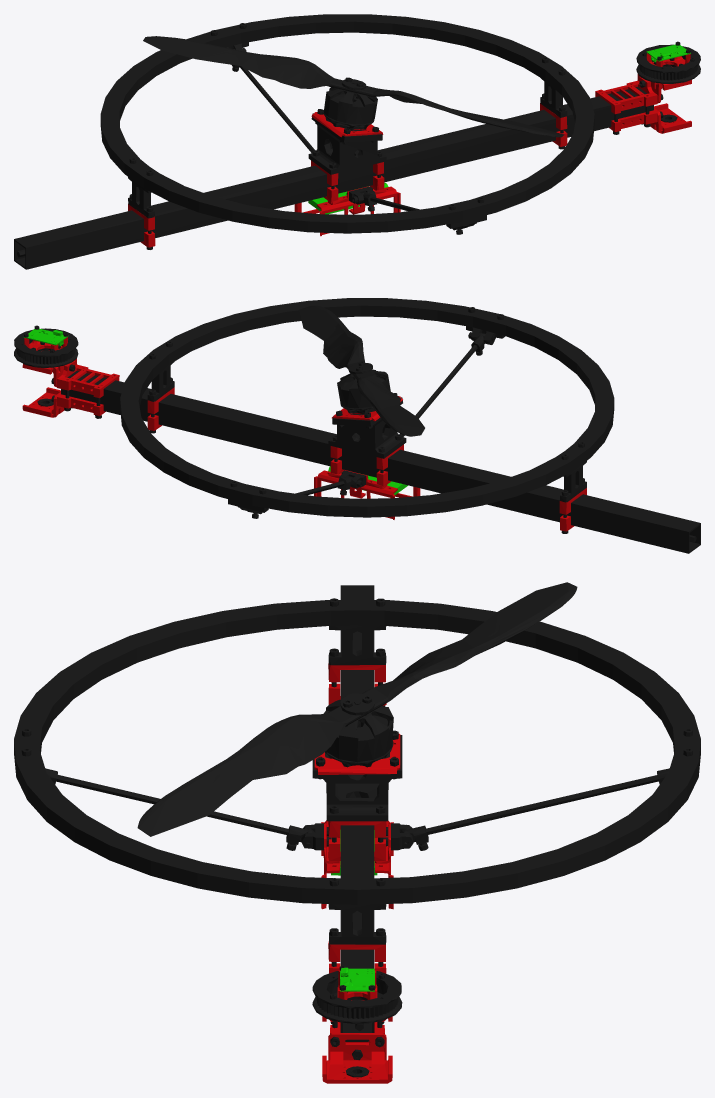
Rendered from tilt_10deg_fix_joint_link3.dae.
The picture shows the model from 3 angles, top to bottom: view 1: azimuth 30°, elevation 25°; view 2: azimuth 150°, elevation 25°; view 3: azimuth 270°, elevation 25°; orthographic projection. The views are drawn at different scales.
Visible parts, largest first — view 1: tilt_10deg_link3_fix_joint_black_part, tilt_10deg_link3_fix_joint_red_part, link3_fix_joint_green; view 2: tilt_10deg_link3_fix_joint_black_part, tilt_10deg_link3_fix_joint_red_part, link3_fix_joint_green; view 3: tilt_10deg_link3_fix_joint_black_part, tilt_10deg_link3_fix_joint_red_part, link3_fix_joint_green.
Part boxes in pixels (box(x1,y1,x2,y2)): tilt_10deg_link3_fix_joint_black_part: box(14, 14, 700, 269); tilt_10deg_link3_fix_joint_red_part: box(128, 53, 691, 247); link3_fix_joint_green: box(308, 44, 690, 214); tilt_10deg_link3_fix_joint_black_part: box(14, 298, 700, 553); tilt_10deg_link3_fix_joint_red_part: box(22, 337, 586, 531); link3_fix_joint_green: box(23, 328, 407, 494); tilt_10deg_link3_fix_joint_black_part: box(14, 582, 700, 1077); tilt_10deg_link3_fix_joint_red_part: box(314, 663, 400, 1083); link3_fix_joint_green: box(331, 830, 377, 991).
Size of the model in its own units: 0.6329 by 0.3997 by 0.1362.
